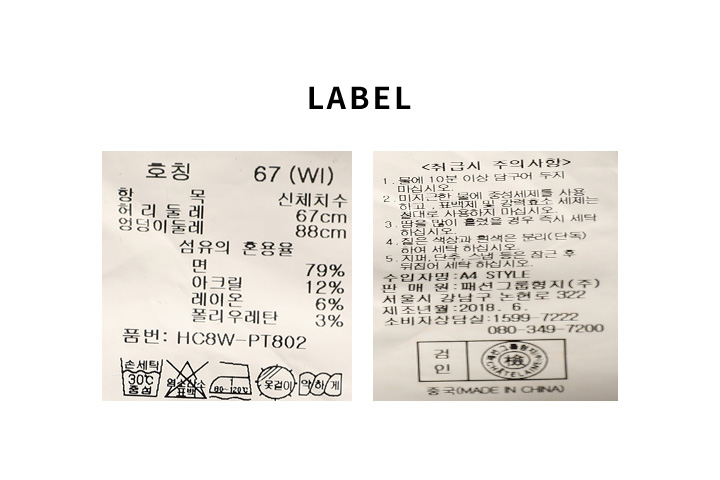KR_flat_dry_in_shade: (256, 362, 297, 400)
KR_gentle_wring: (298, 366, 344, 399)
KR_hand_wash_30_neutral: (117, 355, 164, 399)
KR_iron_low_temp_with_cloth: (208, 359, 254, 400)
KR_no_bleach: (163, 357, 208, 400)
